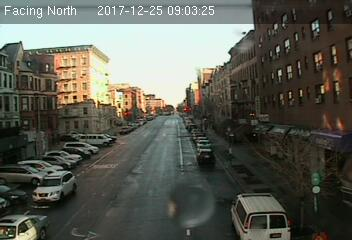car: (31, 169, 77, 206), (198, 148, 215, 166)
truck: (230, 192, 294, 239)
